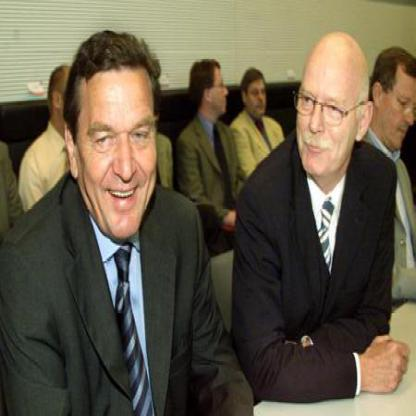face: (75, 44, 161, 242), (299, 35, 362, 184), (247, 76, 269, 120)
